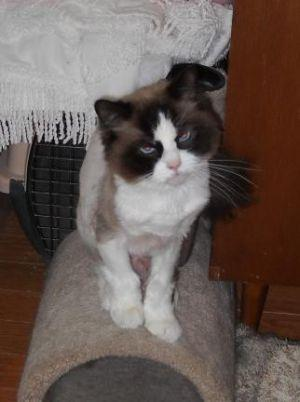ragdoll: (90, 59, 227, 198)
